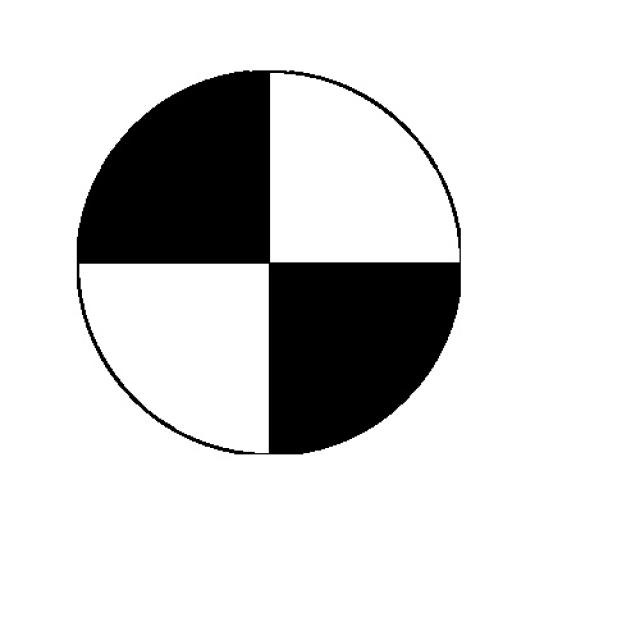Marcadores: (77, 69, 461, 453)
